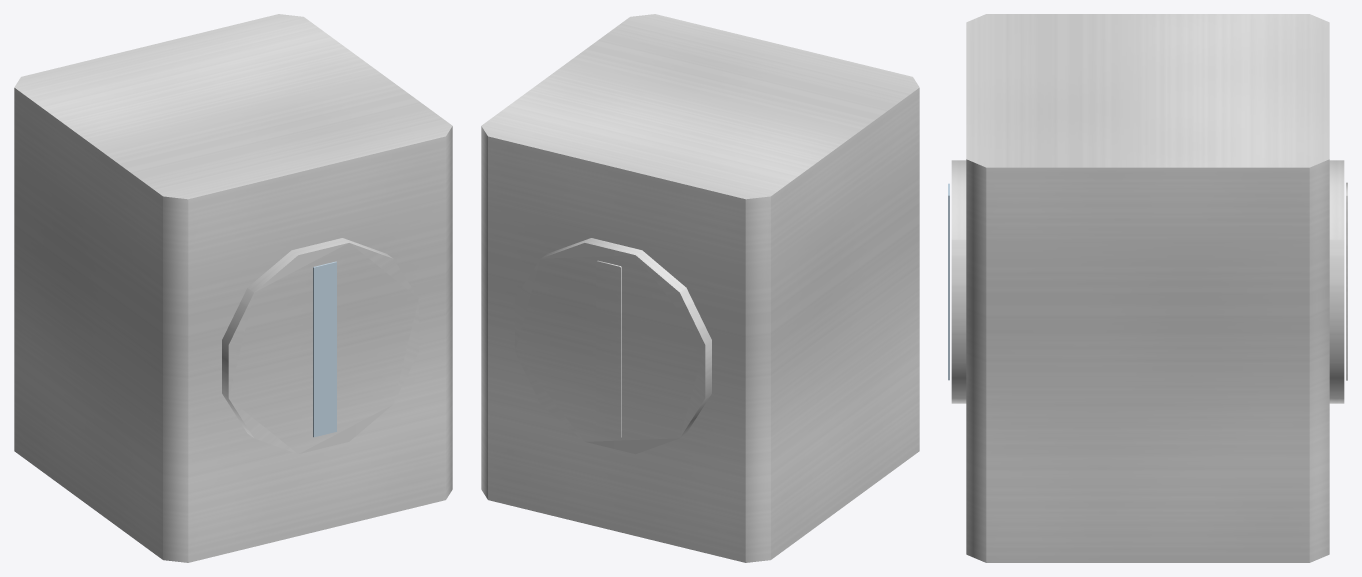
Rendered from cooler.obj.
The picture shows the model from 3 angles, left to right: view 1: azimuth 30°, elevation 25°; view 2: azimuth 150°, elevation 25°; view 3: azimuth 270°, elevation 25°; orthographic projection. The views are drawn at different scales.
Visible parts, largest first — view 1: wall_body, cold_fan_housing, cold_blade_deduplicated; view 2: wall_body, hot_fan_housing, hot_blade_deduplicated; view 3: wall_body, cold_fan_housing, hot_fan_housing.
Boxes of the visible parts, x1,y1,x2,y2 form: wall_body: [14, 14, 452, 562]; cold_fan_housing: [222, 238, 418, 454]; cold_blade_deduplicated: [313, 261, 336, 437]; wall_body: [481, 14, 919, 562]; hot_fan_housing: [515, 238, 711, 454]; hot_blade_deduplicated: [596, 260, 621, 437]; wall_body: [966, 14, 1329, 562]; cold_fan_housing: [951, 160, 966, 403]; hot_fan_housing: [1329, 160, 1344, 403].
Bounding box in the file's own units: 1 × 1.2 × 1.1.
